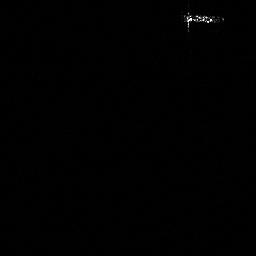ship: (181, 10, 226, 32)
